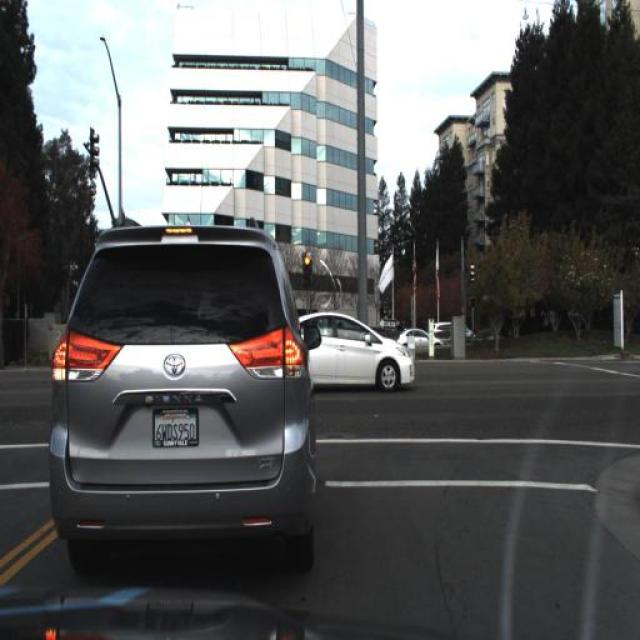car: (49, 214, 316, 576), (292, 308, 428, 396), (398, 322, 447, 348)
trafficLight-RedLeft: (300, 249, 312, 289)
